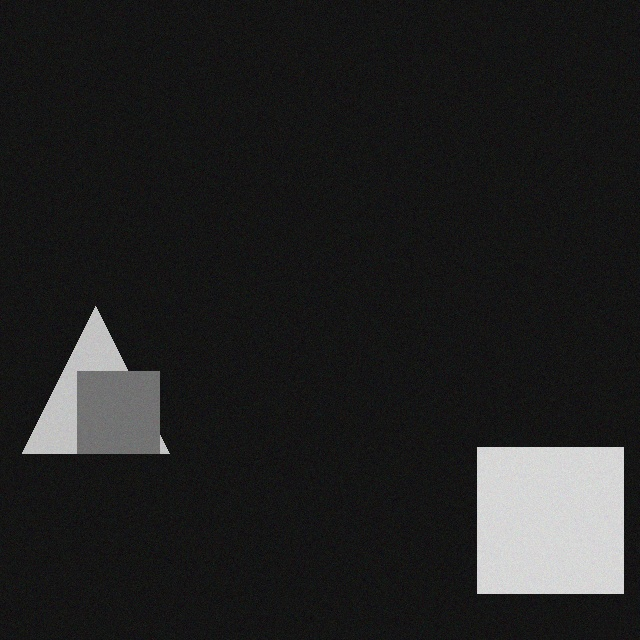square: (476, 451, 622, 597), (76, 375, 158, 457)
triangle: (21, 310, 168, 457)
